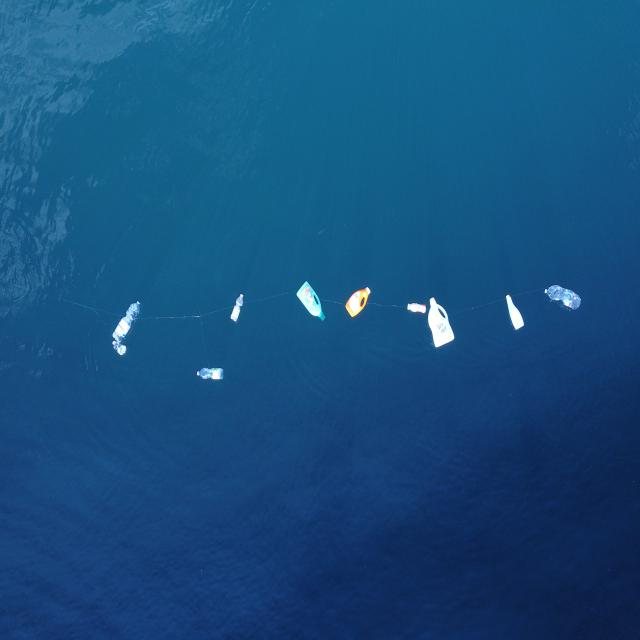bottles: (426, 294, 456, 349), (111, 297, 143, 344), (295, 279, 327, 322), (543, 282, 583, 313), (344, 285, 373, 319), (505, 292, 525, 332), (196, 364, 226, 382), (230, 290, 246, 323), (406, 300, 428, 314), (111, 338, 127, 356)
